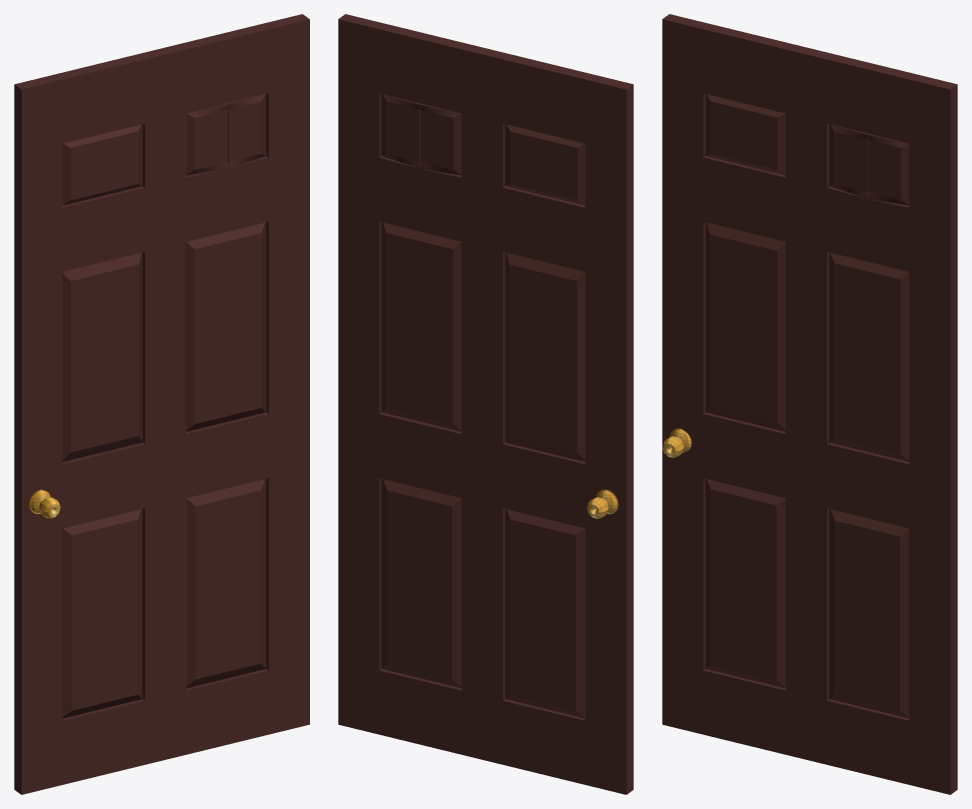
File: Puerta_recamara.obj
3 views of the same model, side by side, from view 1: azimuth 30°, elevation 25°; view 2: azimuth 150°, elevation 25°; view 3: azimuth 330°, elevation 25° (orthographic).
Visible parts, largest first — view 1: pasted__Puerta_Chocolate_Perilla1; view 2: pasted__Puerta_Chocolate_Perilla1; view 3: pasted__Puerta_Chocolate_Perilla1.
Part boxes in pixels (bbox=[...]): pasted__Puerta_Chocolate_Perilla1: bbox=[14, 14, 309, 794]; pasted__Puerta_Chocolate_Perilla1: bbox=[338, 14, 633, 794]; pasted__Puerta_Chocolate_Perilla1: bbox=[662, 14, 957, 794].
Bounding box in the file's own units: 1.24 × 2.91 × 0.2476.
2 materials, 2 textured.
